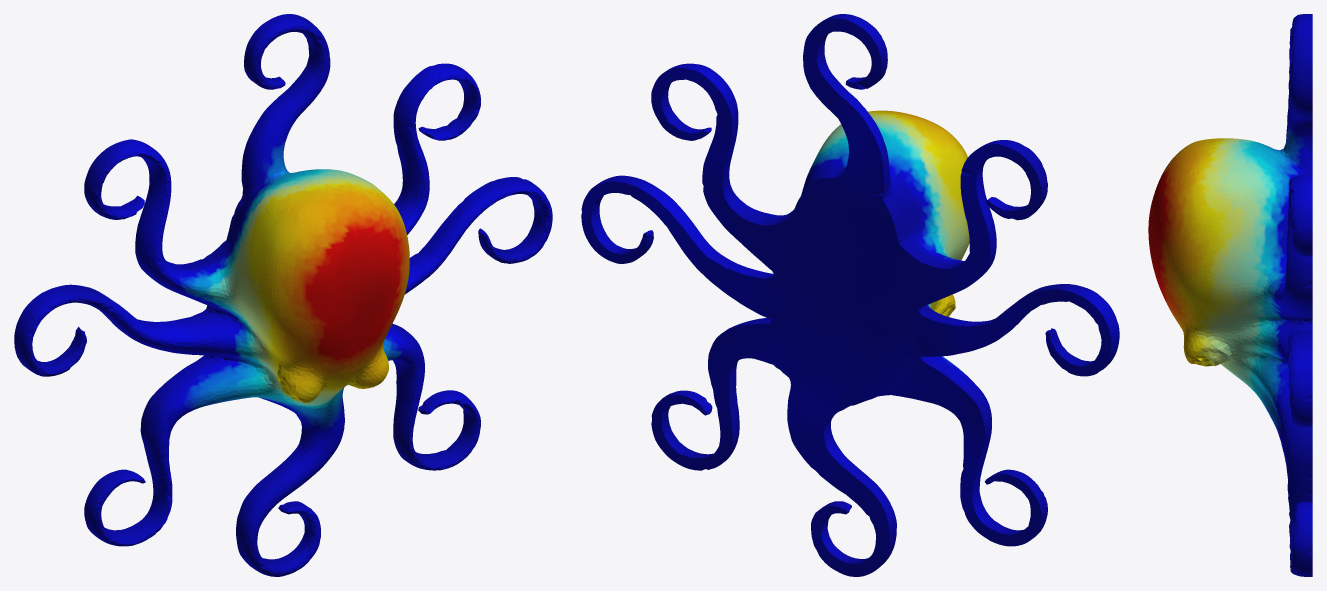
The model's file is octopus_ours.glb.
The picture shows the model from 3 angles, left to right: view 1: azimuth 30°, elevation 25°; view 2: azimuth 150°, elevation 25°; view 3: azimuth 270°, elevation 25°; orthographic projection.
Visible parts, largest first — view 1: octopus_smooth.obj; view 2: octopus_smooth.obj; view 3: octopus_smooth.obj.
Part boxes in pixels (<box>): octopus_smooth.obj: <box>14,14,552,576</box>; octopus_smooth.obj: <box>581,14,1119,576</box>; octopus_smooth.obj: <box>1148,14,1312,576</box>.
Bounding box in the file's own units: 1.92 × 1.93 × 0.5229.
